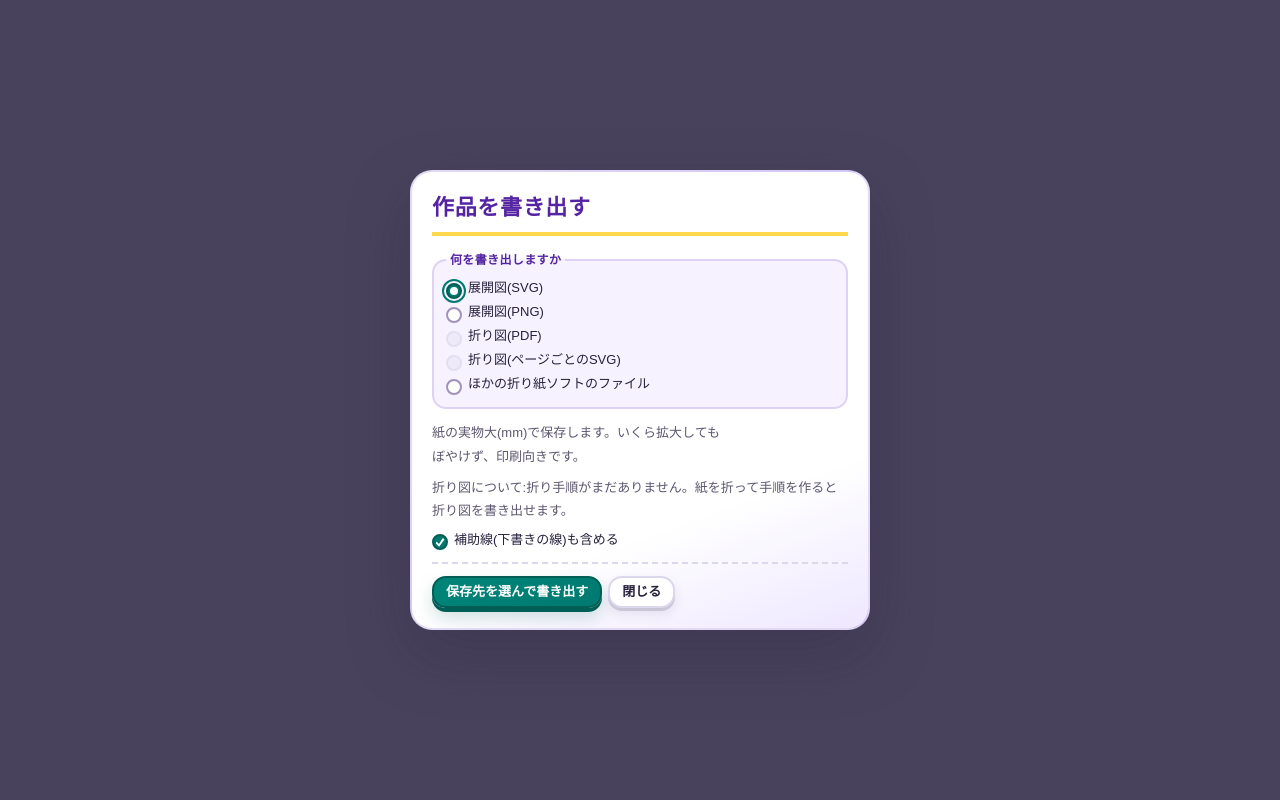
componentのplatform file入口 › 書き出し先の権限拒否でもrunExportせず、作品を残して理由を表示する
Click the button "保存先を選んで書き出す". click: (517, 592)
box: [432,576,602,608]
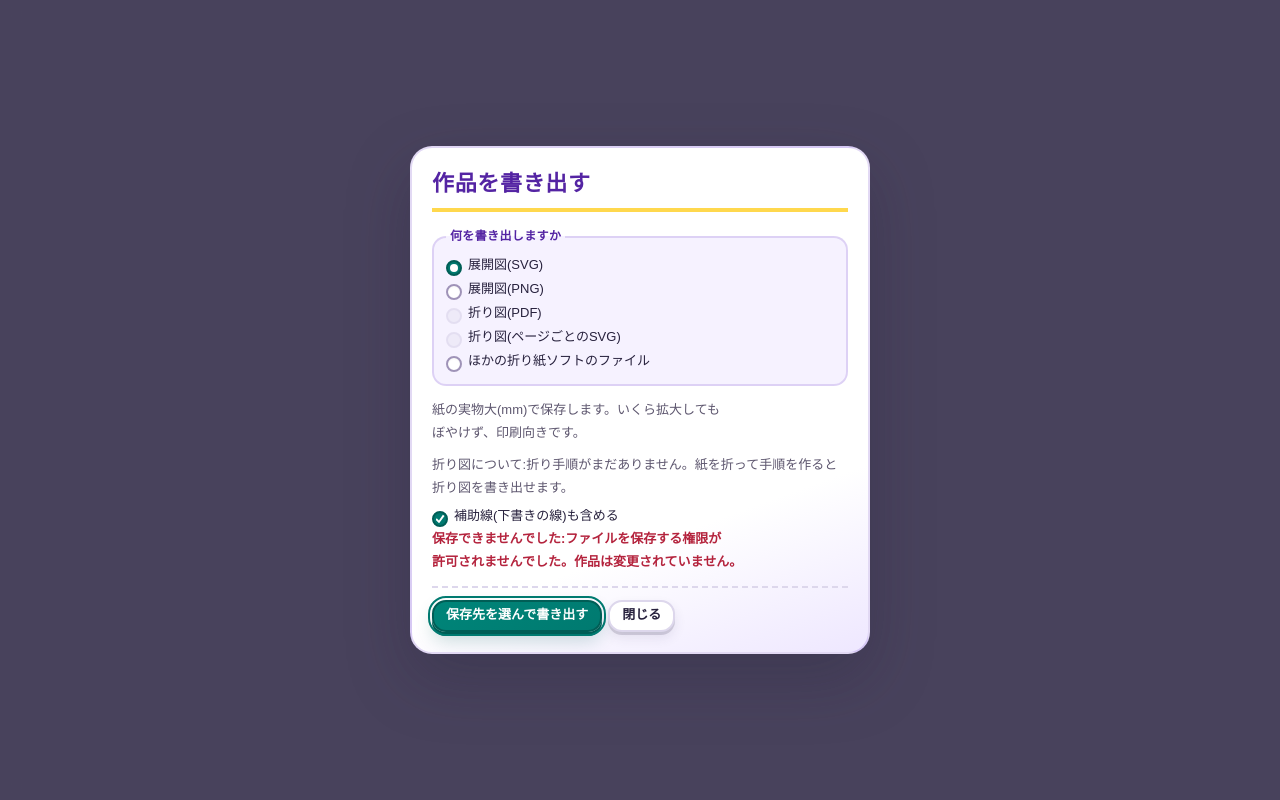
Expected: the text "保存できませんでした:ファイルを保存する権限が許可されませんでした。作品は変更されていません。" is shown, [432,531,742,569]
